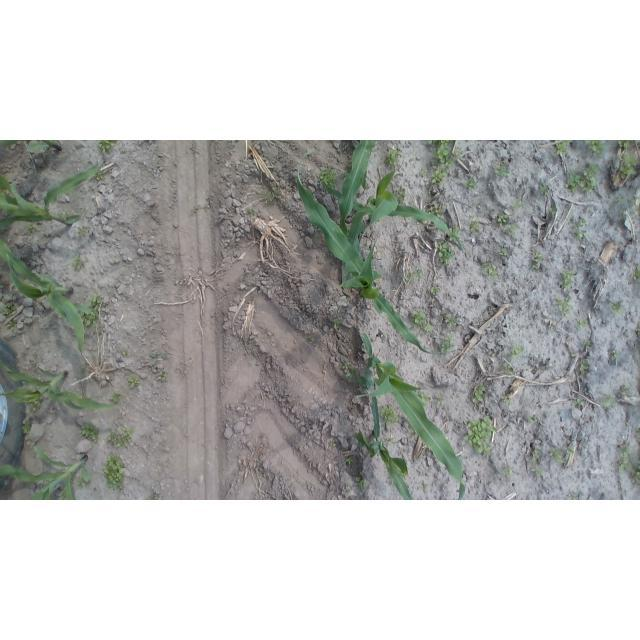Maize: (297, 164, 447, 357), (355, 332, 467, 500), (335, 167, 466, 264), (0, 242, 94, 354), (0, 159, 106, 232), (354, 395, 419, 500), (325, 140, 387, 238), (1, 361, 122, 411), (2, 443, 95, 500), (1, 140, 64, 156)
Weeds: (464, 416, 497, 457), (564, 164, 600, 195), (102, 454, 126, 491), (106, 426, 138, 449), (614, 193, 640, 221), (616, 444, 635, 476), (411, 309, 434, 334), (618, 152, 640, 178), (434, 147, 461, 166), (319, 166, 338, 190), (79, 422, 101, 442), (570, 217, 588, 241), (560, 268, 577, 293), (550, 446, 570, 467), (381, 405, 399, 428), (438, 241, 455, 265), (417, 392, 444, 406), (584, 140, 606, 157), (556, 294, 573, 316), (383, 149, 401, 168), (470, 383, 486, 404), (262, 189, 280, 207), (430, 164, 446, 184), (483, 261, 500, 279), (440, 336, 457, 354), (553, 141, 572, 156), (70, 254, 87, 270), (509, 344, 525, 361), (495, 160, 510, 178), (148, 350, 168, 363), (80, 312, 97, 327), (342, 360, 355, 379), (531, 253, 544, 272), (609, 299, 624, 315), (89, 294, 103, 311), (428, 205, 446, 218), (443, 314, 458, 329), (2, 301, 18, 315), (425, 395, 445, 406), (97, 140, 115, 152), (530, 446, 542, 464), (127, 375, 142, 389), (406, 269, 422, 282), (394, 188, 407, 204), (331, 317, 344, 333), (27, 399, 41, 413), (600, 395, 615, 408), (576, 317, 589, 331), (503, 361, 516, 375), (79, 473, 91, 488), (631, 464, 640, 484), (354, 476, 366, 491), (22, 419, 33, 435), (538, 182, 551, 195), (531, 466, 545, 478), (466, 175, 477, 190), (24, 224, 40, 234), (468, 220, 480, 233), (608, 349, 620, 362), (155, 372, 167, 385), (76, 225, 90, 236), (194, 205, 211, 214), (617, 141, 634, 150), (147, 490, 162, 500), (426, 140, 451, 146), (501, 466, 513, 478), (430, 284, 441, 297), (505, 224, 518, 235), (497, 214, 510, 225), (450, 227, 463, 238), (566, 443, 577, 456), (109, 393, 123, 403), (623, 385, 634, 397), (303, 148, 315, 159), (246, 207, 258, 218), (7, 320, 18, 332), (568, 491, 584, 499), (94, 170, 104, 182), (632, 268, 640, 282), (59, 489, 69, 500), (573, 397, 584, 407), (498, 247, 509, 257), (579, 362, 590, 372), (512, 200, 523, 210), (583, 338, 593, 348), (385, 438, 396, 447), (529, 413, 538, 423), (502, 394, 511, 403), (120, 350, 129, 359), (346, 457, 355, 466), (98, 208, 109, 215), (61, 210, 70, 218), (180, 368, 189, 376), (418, 166, 426, 175), (421, 482, 430, 490), (329, 439, 336, 449), (81, 365, 88, 373), (308, 335, 315, 343), (343, 171, 349, 180), (550, 207, 556, 214), (262, 471, 267, 478)
